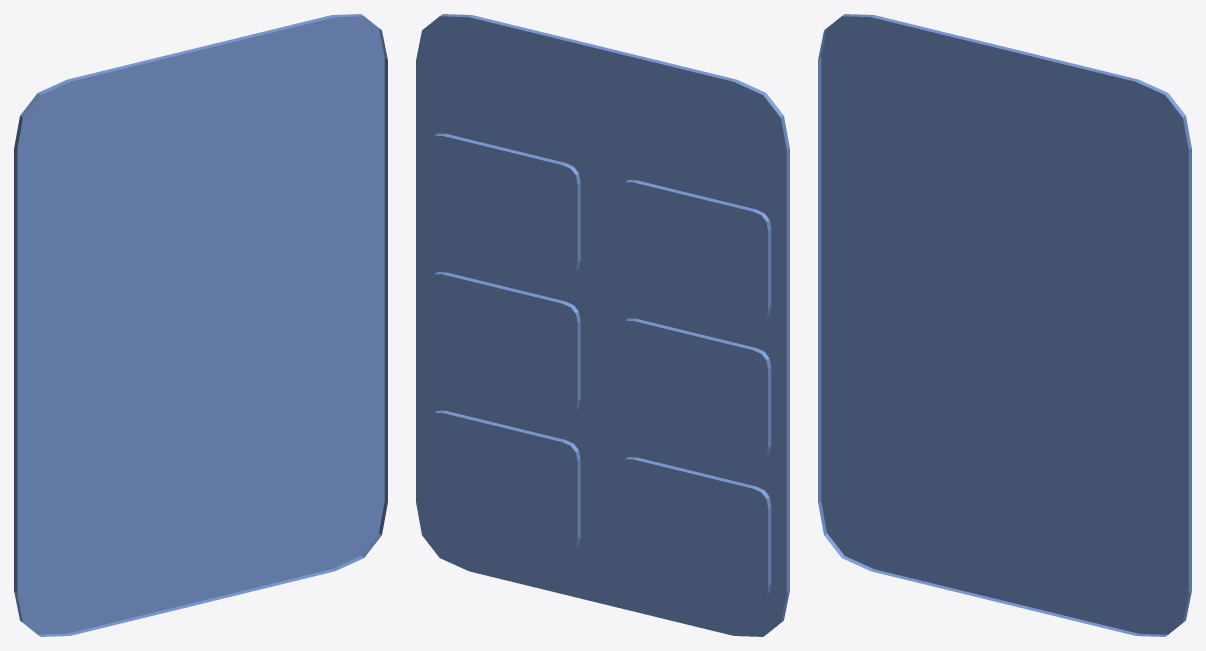
Rendered from rcIngredientPanelAssy.FBX.
3 views of the same model, side by side, from view 1: azimuth 30°, elevation 25°; view 2: azimuth 150°, elevation 25°; view 3: azimuth 330°, elevation 25° (orthographic).
Visible parts, largest first — view 1: crFoodPanelBase; view 2: crFoodPanelBase, crFoodPanelButtonWheatbread, crFoodPanelButtonHam, crFoodPanelButtonTomato, crFoodPanelButtonCheese001, crFoodPanelButtonWhitebread, crFoodPanelButtonC; view 3: crFoodPanelBase.
Boxes of the visible parts, left/top/right/bottom form: crFoodPanelBase: left=14, top=14, right=387, bottom=636; crFoodPanelBase: left=416, top=14, right=789, bottom=636; crFoodPanelButtonWheatbread: left=618, top=180, right=771, bottom=321; crFoodPanelButtonHam: left=618, top=457, right=771, bottom=598; crFoodPanelButtonTomato: left=618, top=318, right=771, bottom=459; crFoodPanelButtonCheese001: left=428, top=410, right=580, bottom=551; crFoodPanelButtonWhitebread: left=428, top=133, right=580, bottom=274; crFoodPanelButtonC: left=428, top=272, right=580, bottom=413; crFoodPanelBase: left=818, top=14, right=1191, bottom=636.
Size of the model in its own units: 0.7 by 1 by 0.0201.
